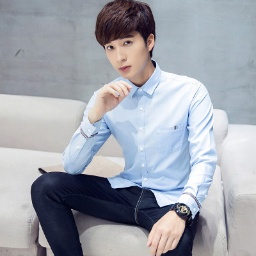face: (95, 1, 157, 78)
